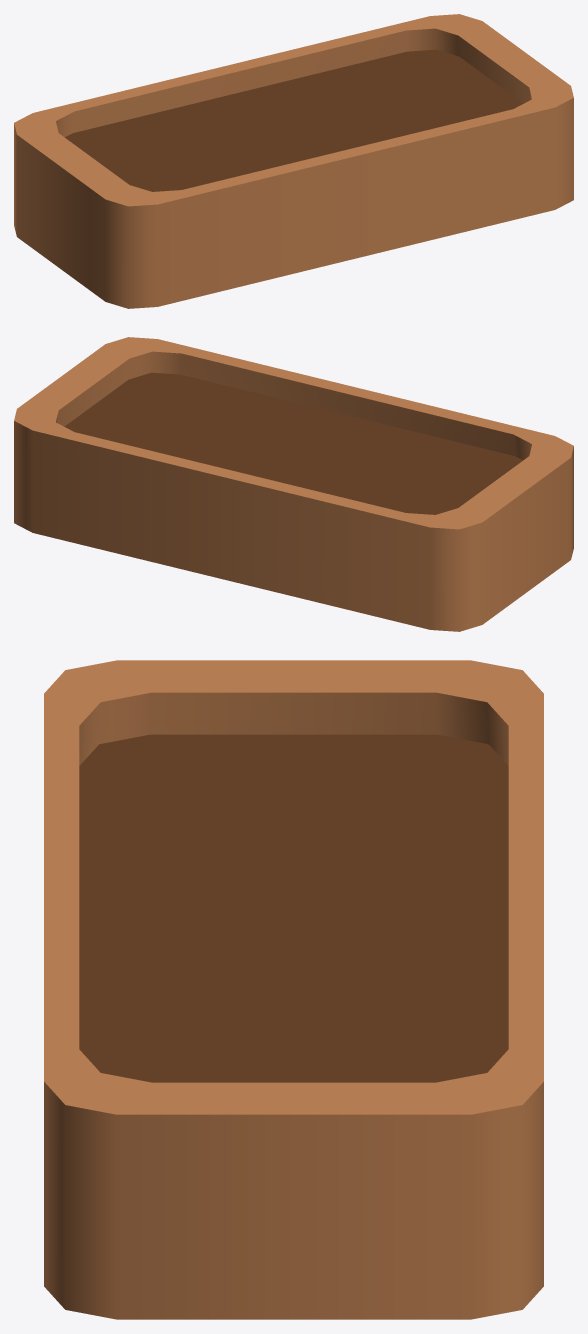
Rendered from Flowerbed.fbx.
The picture shows the model from 3 angles, top to bottom: view 1: azimuth 30°, elevation 25°; view 2: azimuth 150°, elevation 25°; view 3: azimuth 270°, elevation 25°; orthographic projection. The views are drawn at different scales.
Parts seen in each view (by area): view 1: Cube; view 2: Cube; view 3: Cube.
Part boxes in pixels (left/top/right/bottom): Cube: left=14, top=14, right=573, bottom=308; Cube: left=14, top=337, right=573, bottom=631; Cube: left=44, top=660, right=543, bottom=1319.
Bounding box in the file's own units: 243 × 51.11 × 113.
